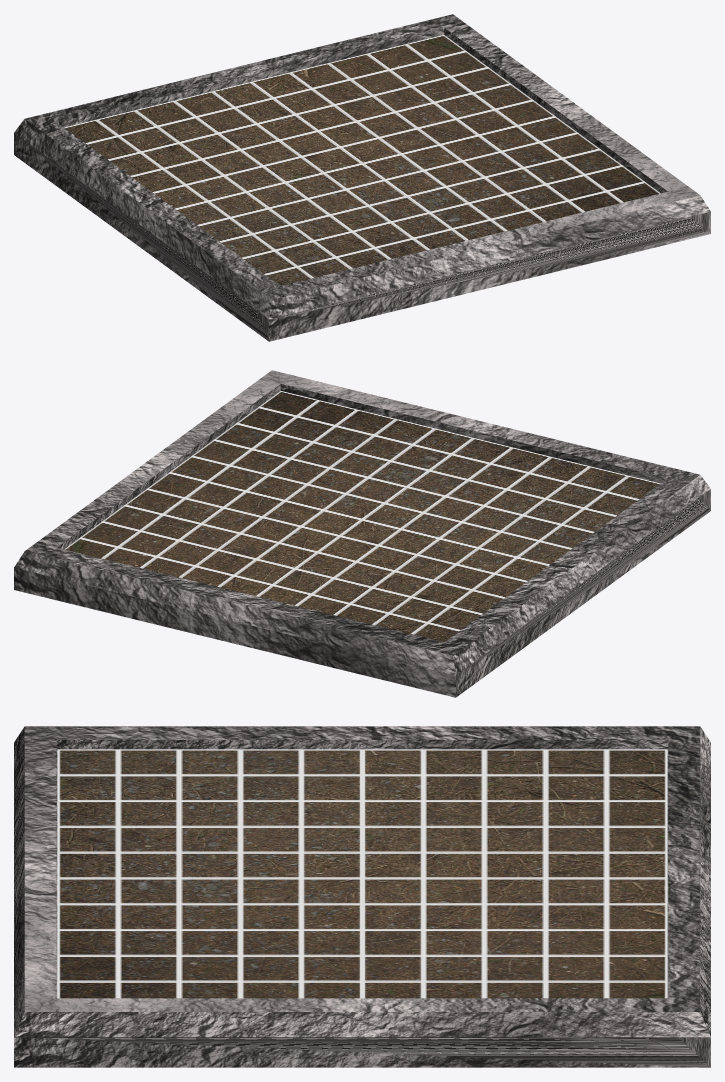
File: Board.fbx
3 renders of one model, top to bottom at view 1: azimuth 30°, elevation 25°; view 2: azimuth 150°, elevation 25°; view 3: azimuth 270°, elevation 25°, orthographic. The views are drawn at different scales.
Parts seen in each view (by area): view 1: Cube.001, Cube; view 2: Cube.001, Cube; view 3: Cube.001, Cube.
Part boxes in pixels (bbox=[...]): Cube.001: bbox=[64, 35, 660, 285]; Cube: bbox=[14, 14, 710, 341]; Cube.001: bbox=[64, 391, 660, 641]; Cube: bbox=[14, 370, 710, 697]; Cube.001: bbox=[57, 749, 667, 998]; Cube: bbox=[14, 726, 710, 1067].
Bounding box in the file's own units: 1198 × 97.19 × 1198.
